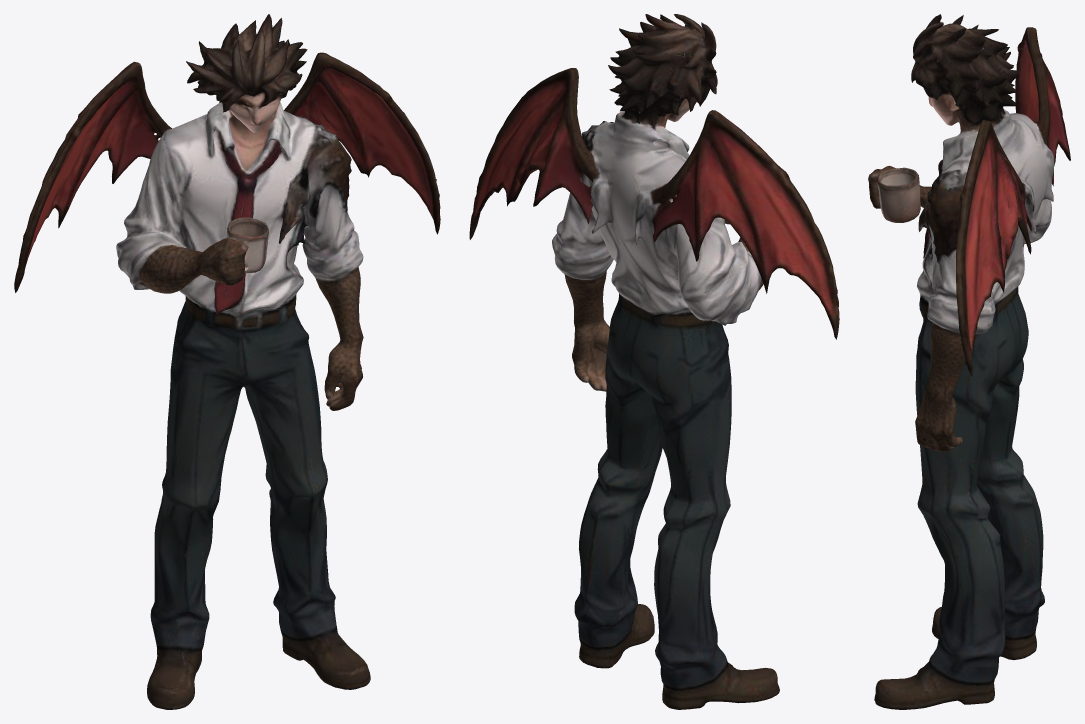
Rendered from neutral_partdragon.glb.
The picture shows the model from 3 angles, left to right: view 1: azimuth 30°, elevation 25°; view 2: azimuth 150°, elevation 25°; view 3: azimuth 270°, elevation 25°; orthographic projection.
Size of the model in its own units: 0.5331 by 0.8467 by 0.237.
1 material, 1 textured.
